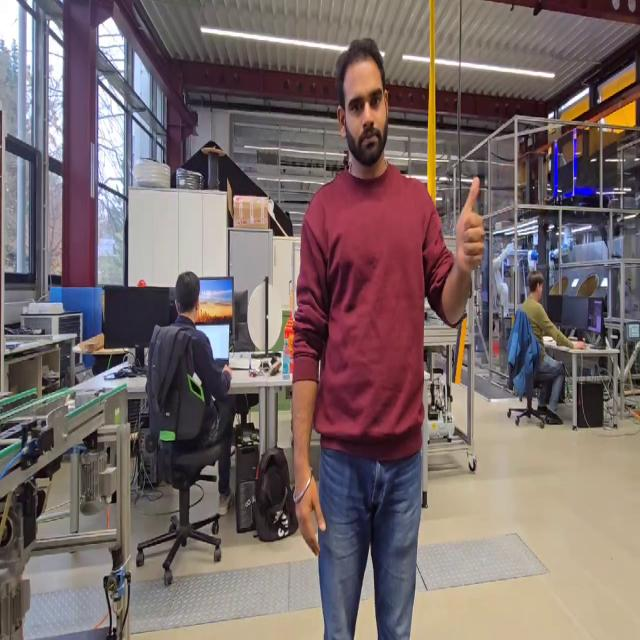thumbs_up: (452, 171, 488, 280)
